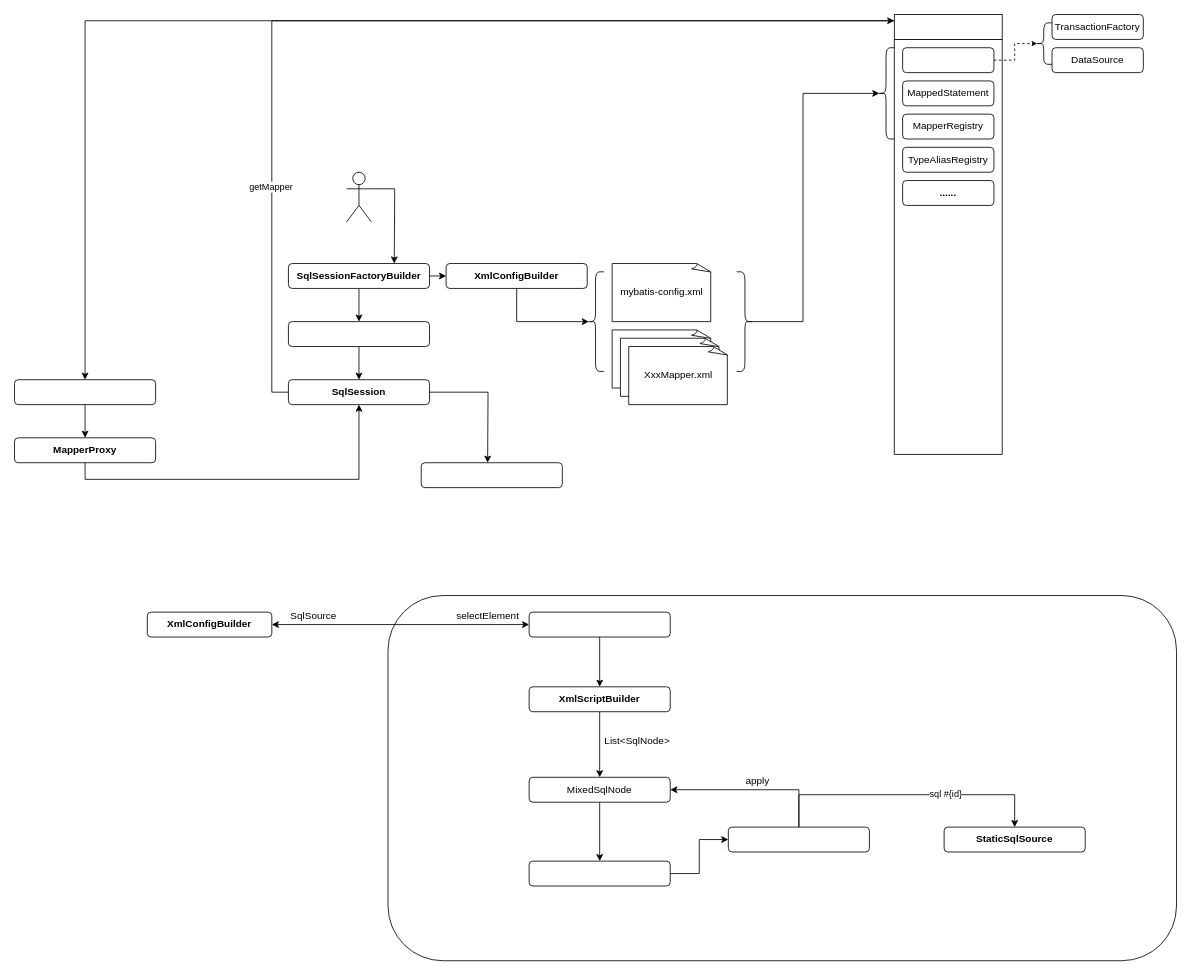
The diagram is 1191 pixels wide and 975 high, and some of its shapes have lost their labels. Each missing label, with the centre of its shape:
"Actor" goes at (x=358, y=196).
"Configuration" goes at (x=947, y=26).
"DynamicContext" goes at (x=798, y=839).
"Environment" goes at (x=948, y=60).
"MapperProxyFactory" goes at (x=85, y=392).
"RawSqlSource" goes at (x=599, y=873).
"selectOne" goes at (x=491, y=475).
"SqlSessionFactory" goes at (x=359, y=334).
"XmlLanguageDriver" goes at (x=599, y=624).
